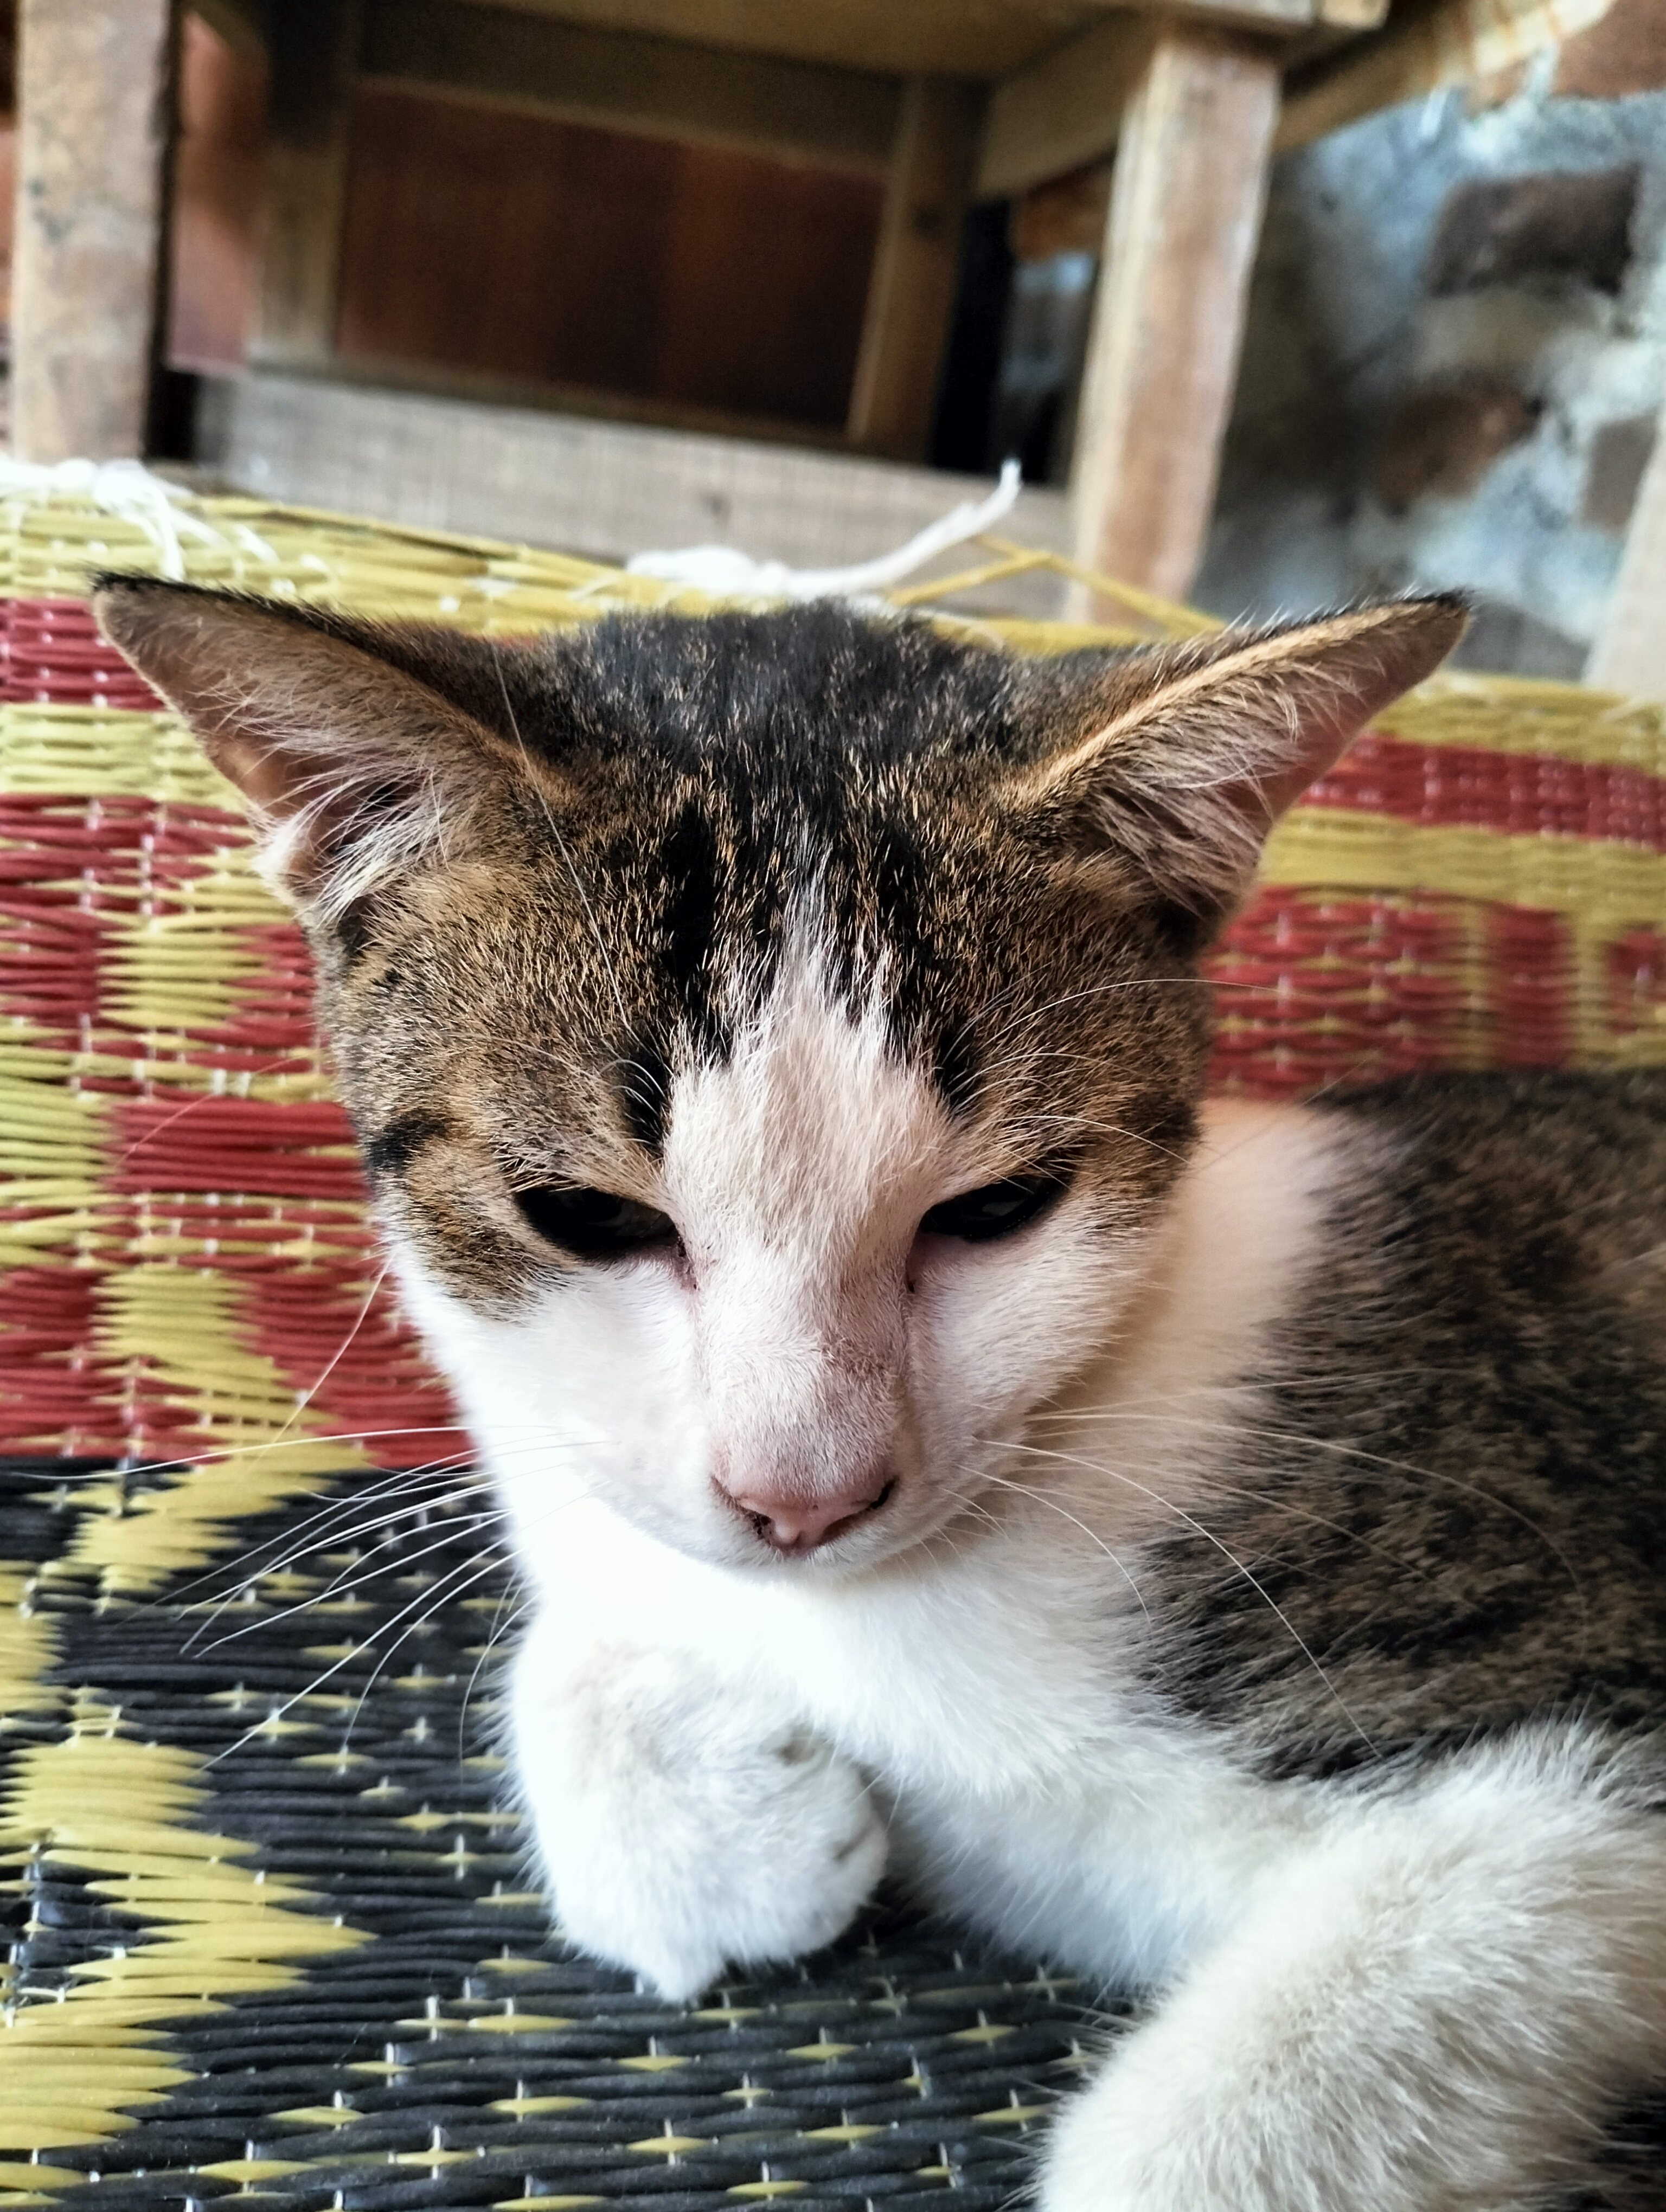miki: (65, 509, 1526, 1623)
